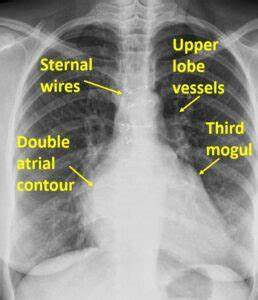telestration: (13, 135, 77, 192), (171, 36, 227, 98), (203, 118, 254, 157), (39, 57, 94, 93), (82, 78, 125, 97), (65, 165, 96, 187), (198, 157, 220, 176), (181, 92, 201, 111)
